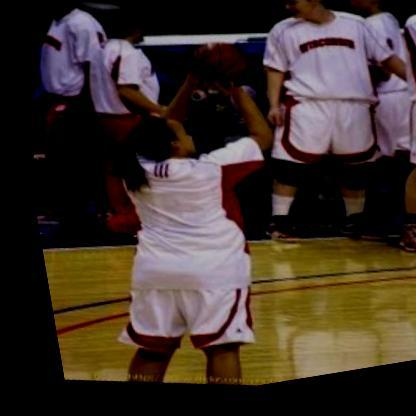basketball: (174, 36, 258, 106)
